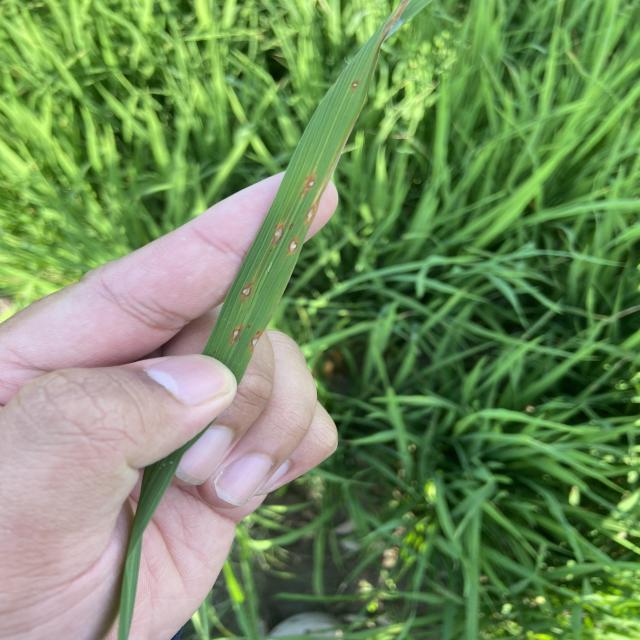Dao on: (302, 173, 315, 197), (273, 223, 284, 246), (251, 332, 262, 349), (241, 284, 252, 300), (288, 238, 298, 254), (306, 207, 315, 223), (232, 329, 240, 343), (351, 81, 359, 89)
